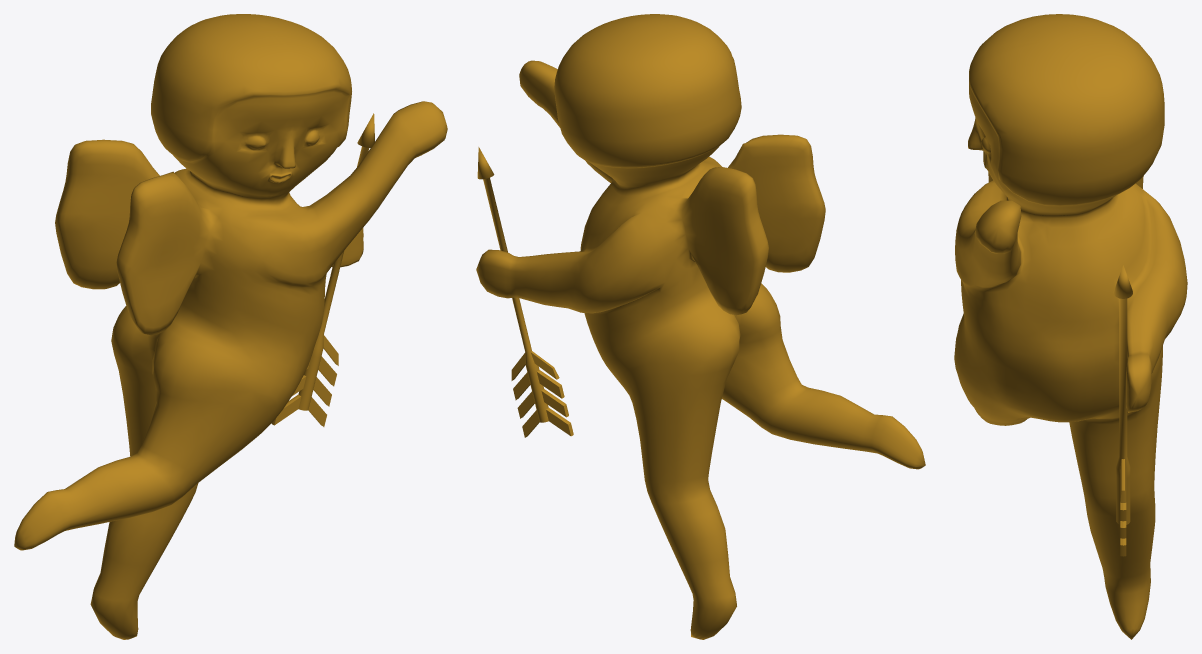
The model's file is Cupid.FBX.
The picture shows the model from 3 angles, left to right: view 1: azimuth 30°, elevation 25°; view 2: azimuth 150°, elevation 25°; view 3: azimuth 270°, elevation 25°; orthographic projection. The views are drawn at different scales.
Parts seen in each view (by area): view 1: cupid; view 2: cupid; view 3: cupid.
Part boxes in pixels (x1=…): cupid: x1=14, y1=14, x2=447, y2=639; cupid: x1=476, y1=14, x2=925, y2=639; cupid: x1=954, y1=14, x2=1187, y2=639.
Bounding box in the file's own units: 14.82 × 20.07 × 6.55.
